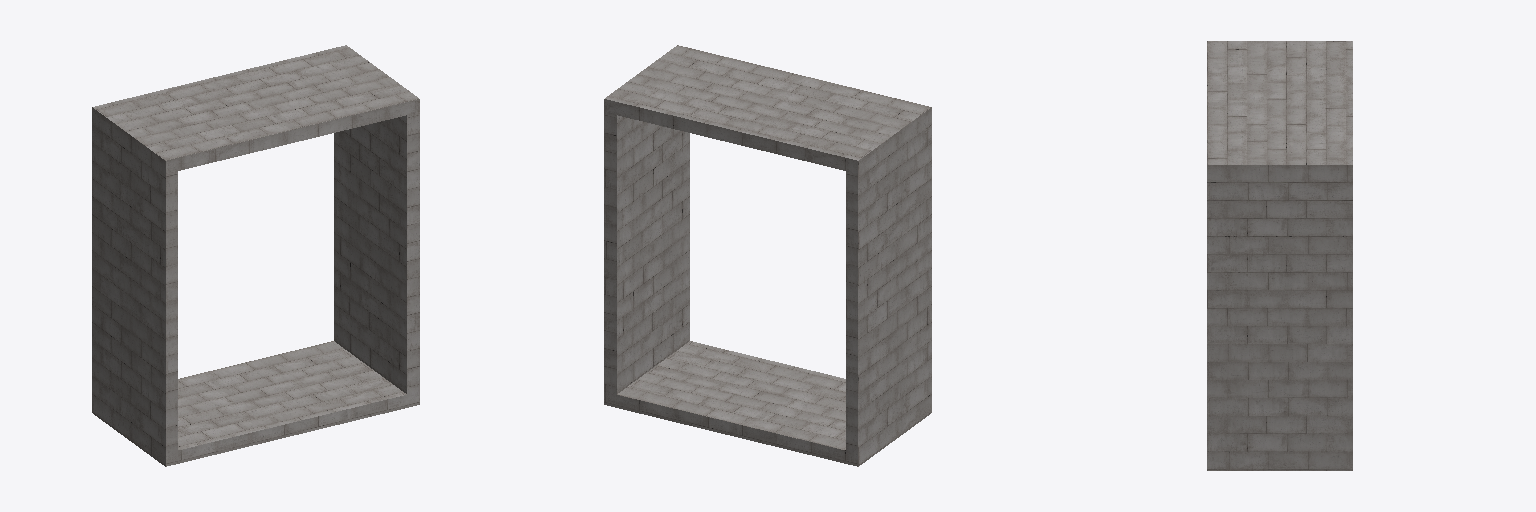
3 renders of one model, left to right at view 1: azimuth 30°, elevation 25°; view 2: azimuth 150°, elevation 25°; view 3: azimuth 270°, elevation 25°, orthographic.
Parts seen in each view (by area): view 1: Cube_Frame; view 2: Cube_Frame; view 3: Cube_Frame.
Boxes of the visible parts, <box> form: Cube_Frame: <box>92,45,419,466</box>; Cube_Frame: <box>604,45,931,466</box>; Cube_Frame: <box>1207,41,1352,470</box>.
Bounding box in the file's own units: 4 × 4.6 × 2.
1 materials, 1 textured.